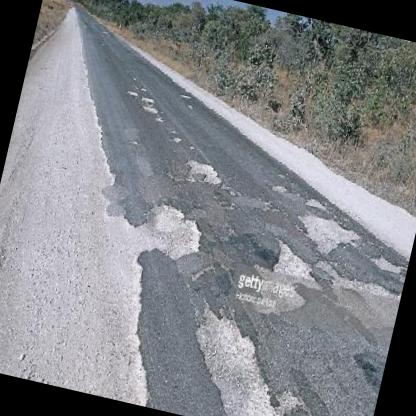pothole: (173, 303, 319, 416), (132, 193, 209, 265), (290, 206, 364, 259), (266, 233, 323, 282), (182, 155, 225, 189), (363, 250, 405, 275), (138, 100, 159, 116), (126, 86, 140, 96)
